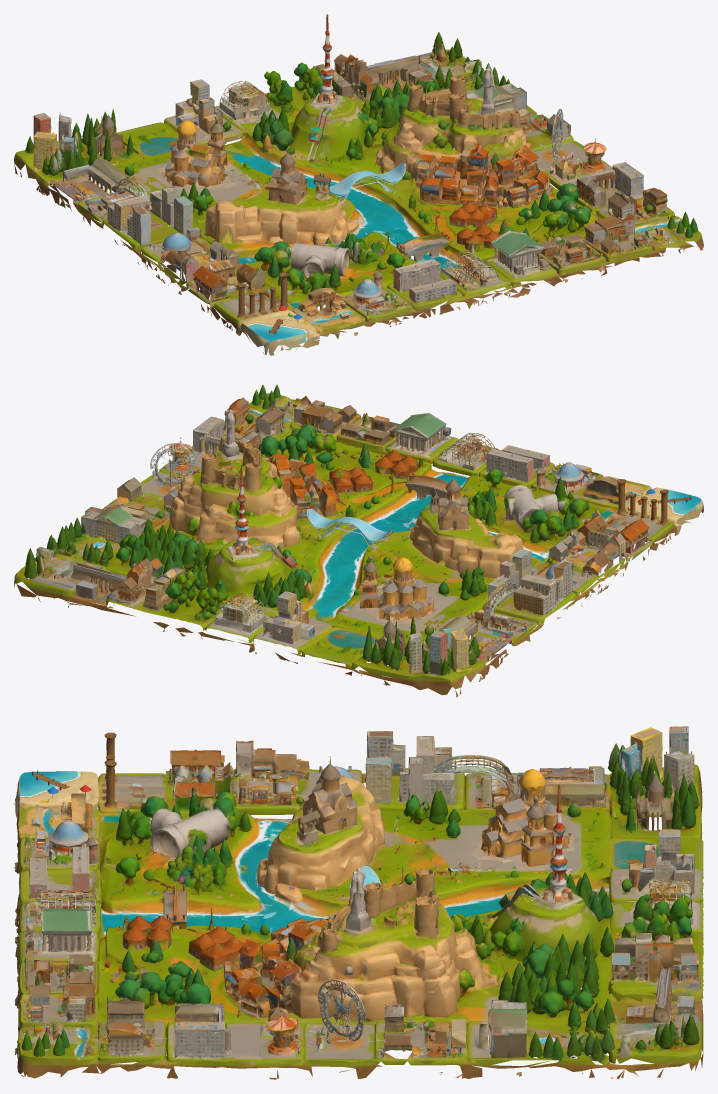
The model's file is m_tb_city.glb.
The picture shows the model from 3 angles, top to bottom: view 1: azimuth 30°, elevation 25°; view 2: azimuth 150°, elevation 25°; view 3: azimuth 270°, elevation 25°; orthographic projection. The views are drawn at different scales.
Parts seen in each view (by area): view 1: city; view 2: city; view 3: city.
Boxes of the visible parts, x1=… form: city: x1=14, y1=14, x2=703, y2=355; city: x1=14, y1=384, x2=703, y2=697; city: x1=14, y1=726, x2=703, y2=1079.
Size of the model in its own units: 9.11 by 2.61 by 9.12.
1 material, 1 textured.
